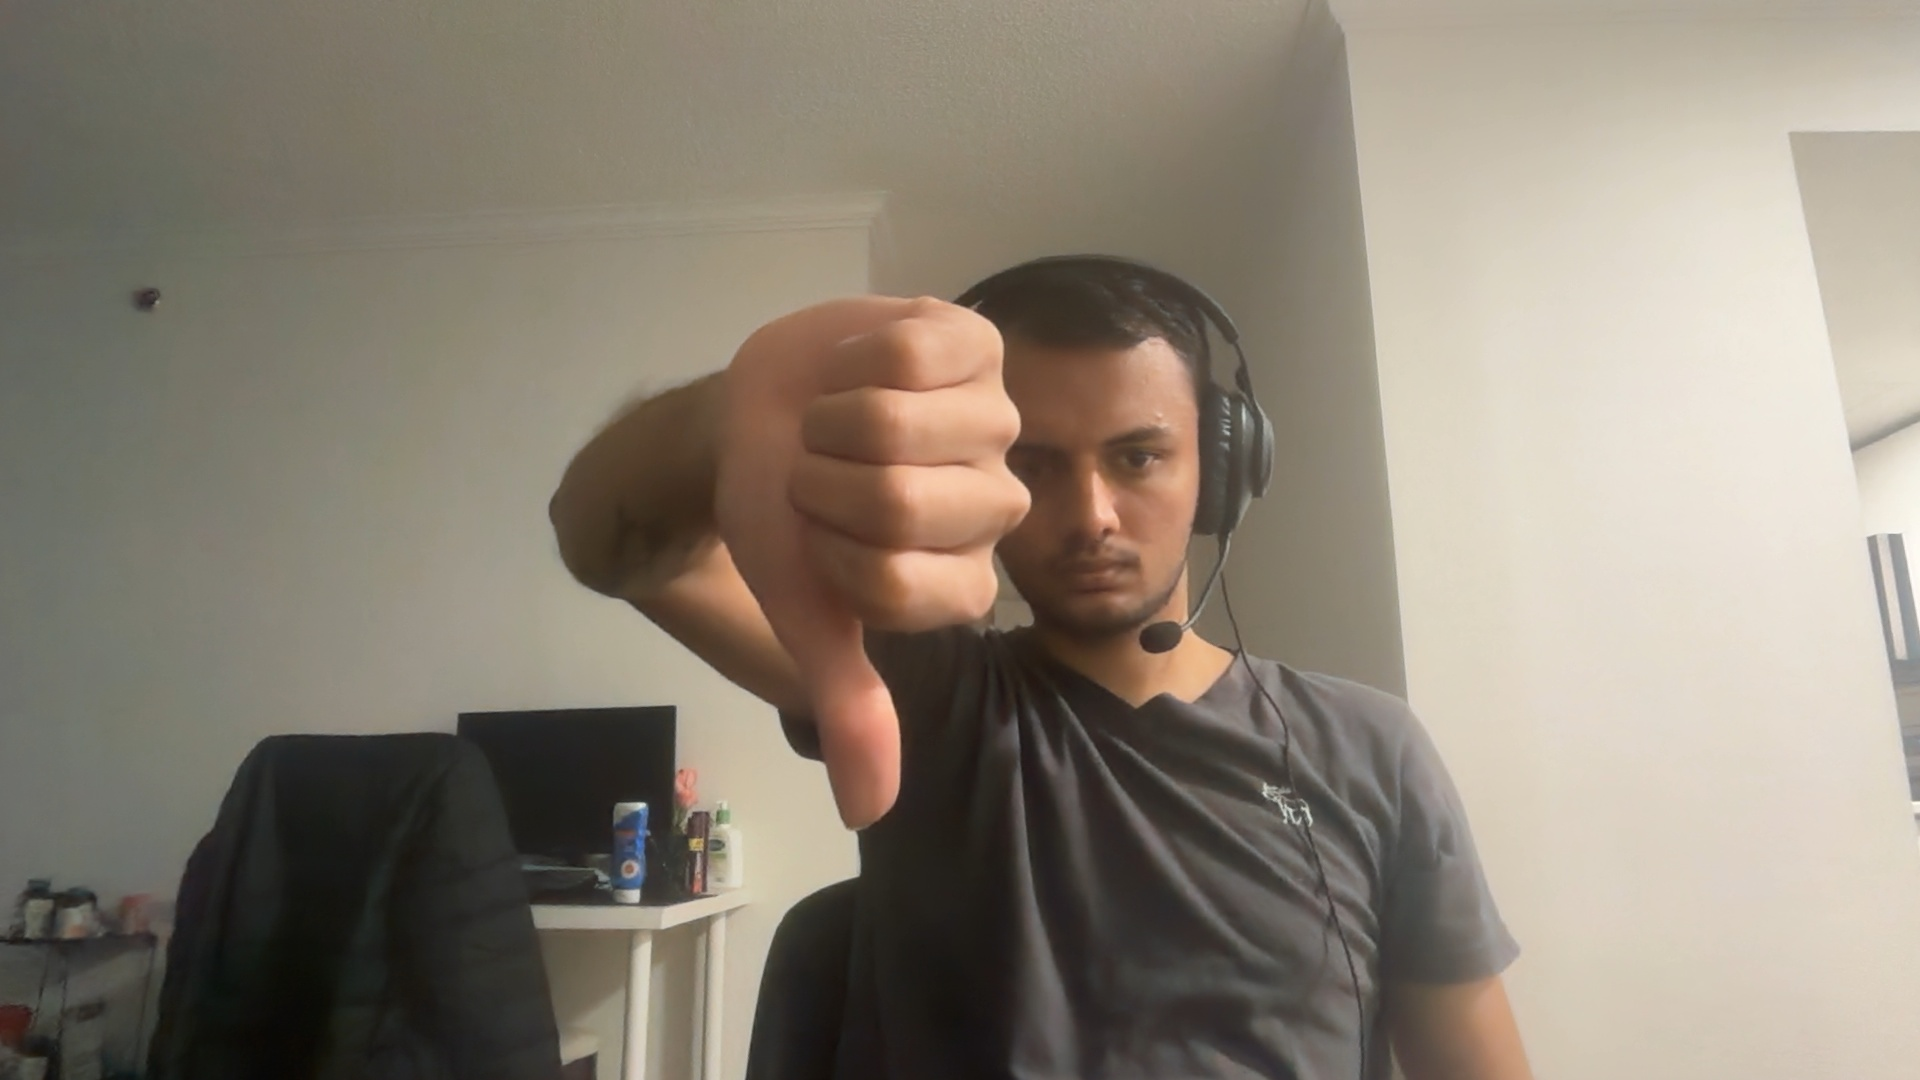thumbsdown: (715, 293, 1030, 829)
